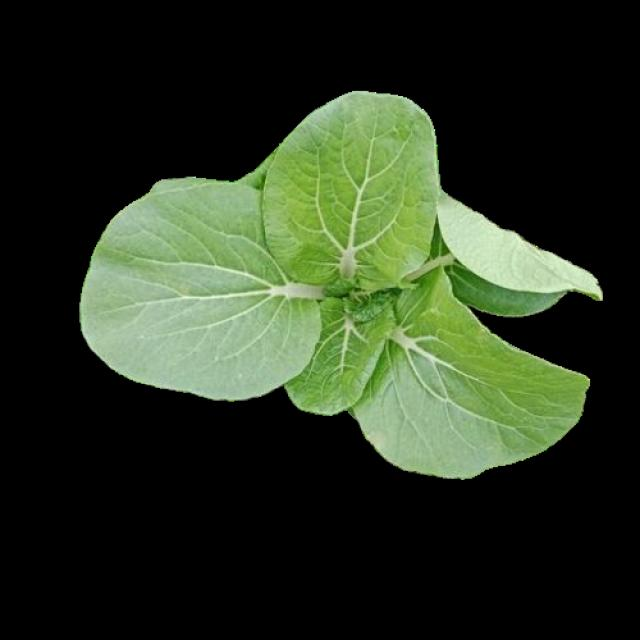healthy: (79, 91, 608, 479)
not-mature: (82, 94, 610, 482)
